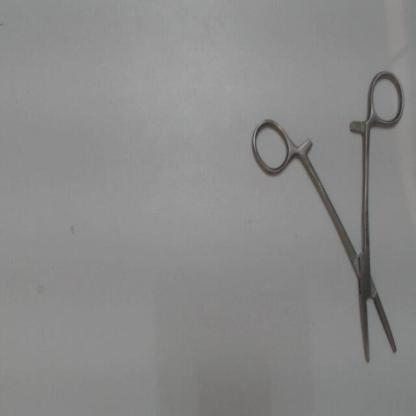Mayo Needle Holder: (247, 63, 408, 373)
